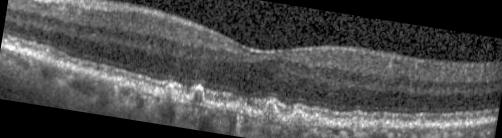retinal_drusen: (310, 112, 352, 131), (262, 100, 280, 122), (290, 109, 309, 127), (161, 83, 175, 101), (191, 89, 202, 105), (361, 126, 373, 133), (375, 122, 383, 131), (355, 123, 361, 135)
